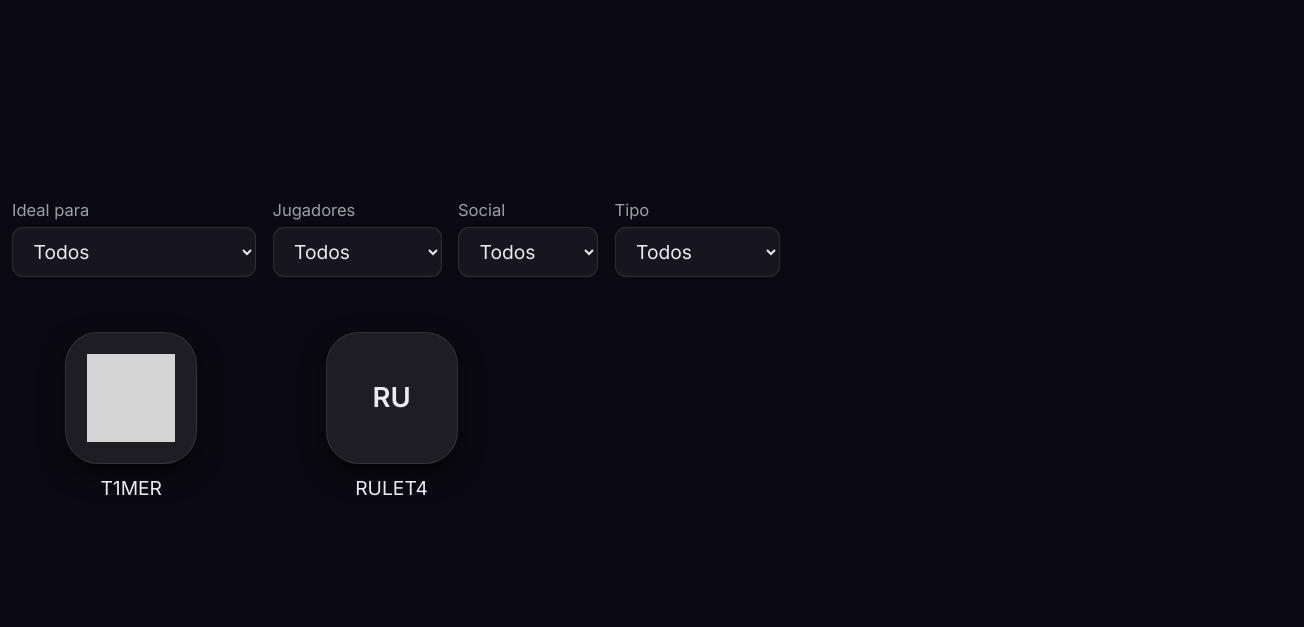
Test case: GameGate – create/join view › Crear button is disabled when gameId is empty
What coordinates should you click on to do the following:
click the button "T1MER"
I would click on:
 (131, 417)
Its box is 61,332 -> 201,502.
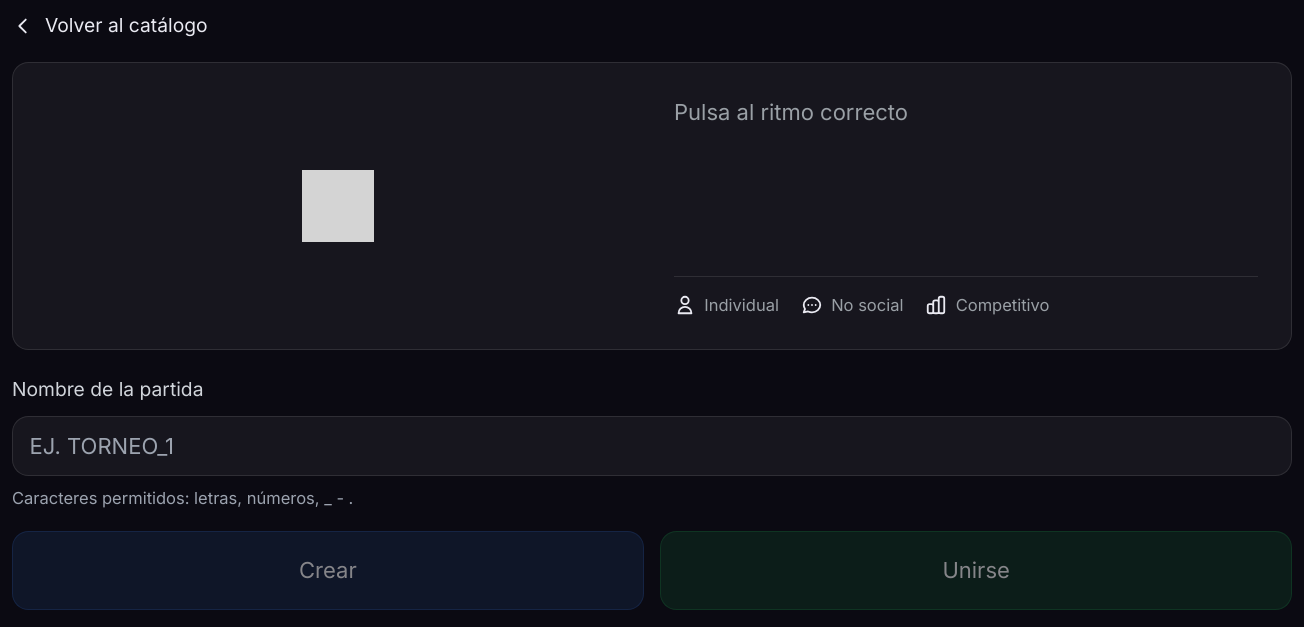
Expected: the button "Crear" is disabled, 12,531 -> 644,610
